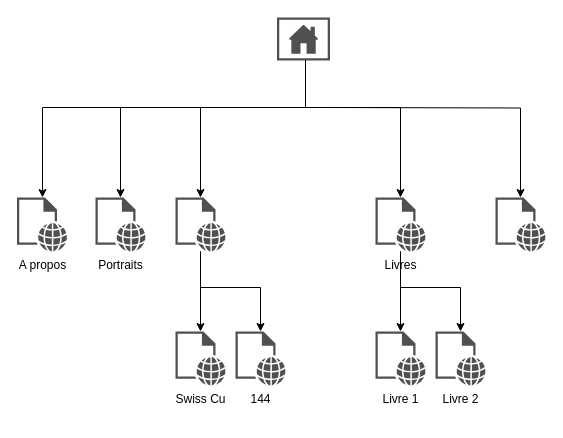
Image size: 563x438. Some labels were removed from this diagram. Here are the shapes that lost their labels. From the top down, the centre of each, then its label:
At point 303,38: "HomePage".
At point 200,224: "Documentaire".
At point 520,224: "Contact".
